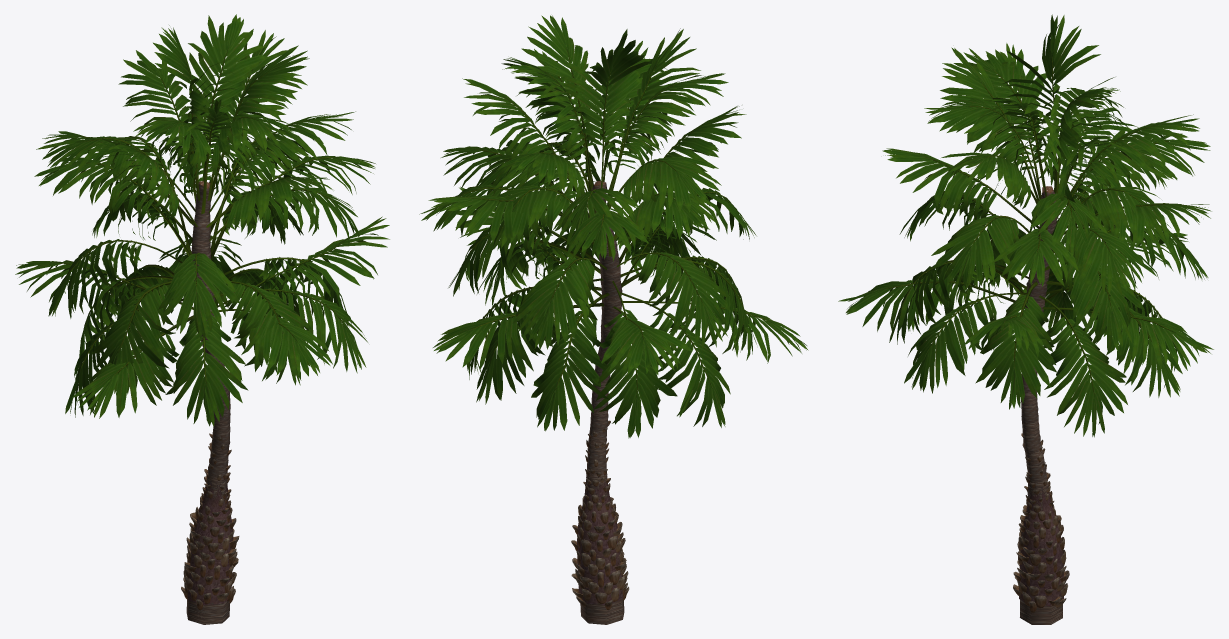
3 views of the same model, side by side, from view 1: azimuth 30°, elevation 25°; view 2: azimuth 150°, elevation 25°; view 3: azimuth 270°, elevation 25° (orthographic).
Parts seen in each view (by area): view 1: SM_Palm_02_LOD0; view 2: SM_Palm_02_LOD0; view 3: SM_Palm_02_LOD0.
Boxes of the visible parts, x1,y1,x2,y2 form: SM_Palm_02_LOD0: (15, 14, 389, 624); SM_Palm_02_LOD0: (419, 15, 808, 624); SM_Palm_02_LOD0: (838, 14, 1213, 624).
Bounding box in the file's own units: 9.96 × 17.24 × 10.03.
Materials: 2 (2 with a texture image).
